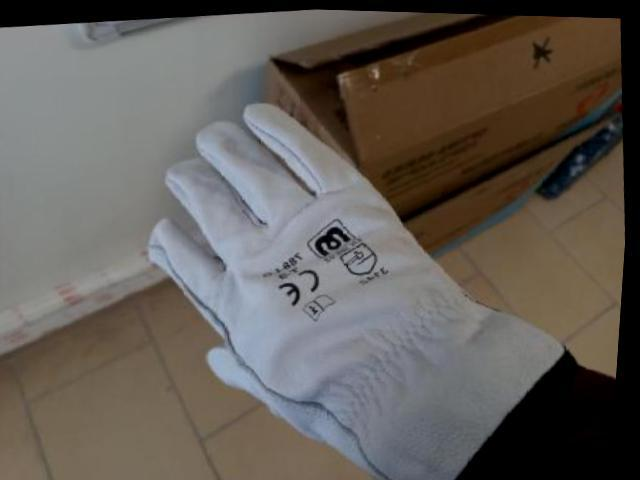Hand-in-Glove: (122, 69, 590, 480)
